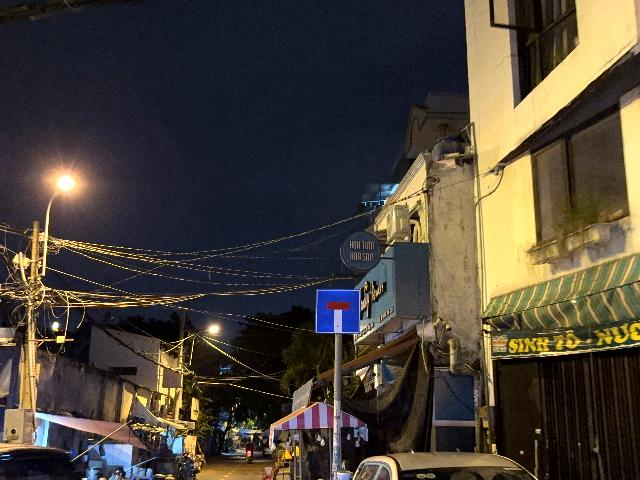duong-cut: (315, 288, 360, 334)
